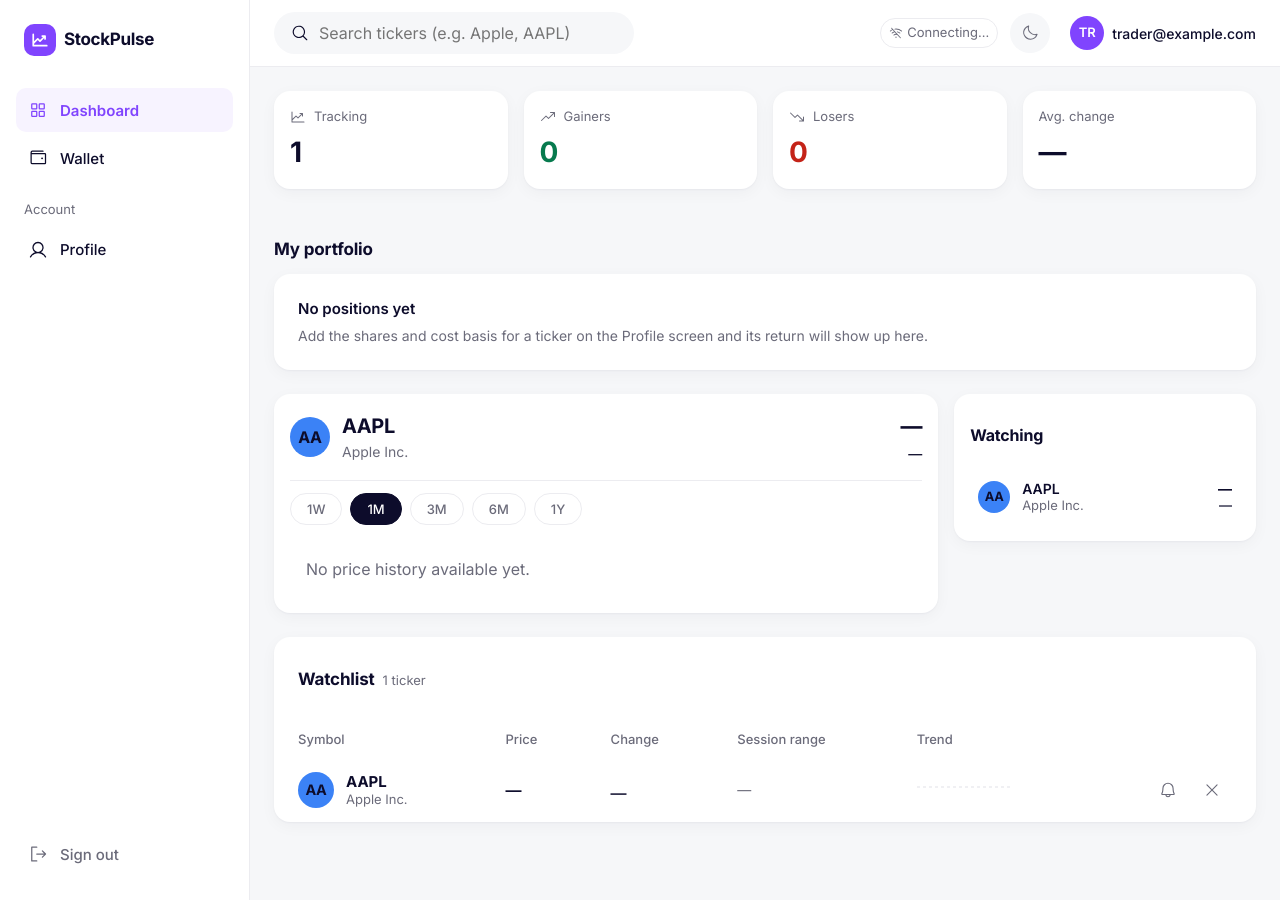
it: App — removing from the watchlist › removes the item from the table (optimistically) when removeFromWatchlist succeeds
Expected: the 1st text "AAPL" is shown, top-left (342, 414), bottom-right (395, 438)
Click the button named "Remove AAPL from watchlist": (1212, 790) top-left (1192, 770), bottom-right (1232, 810)
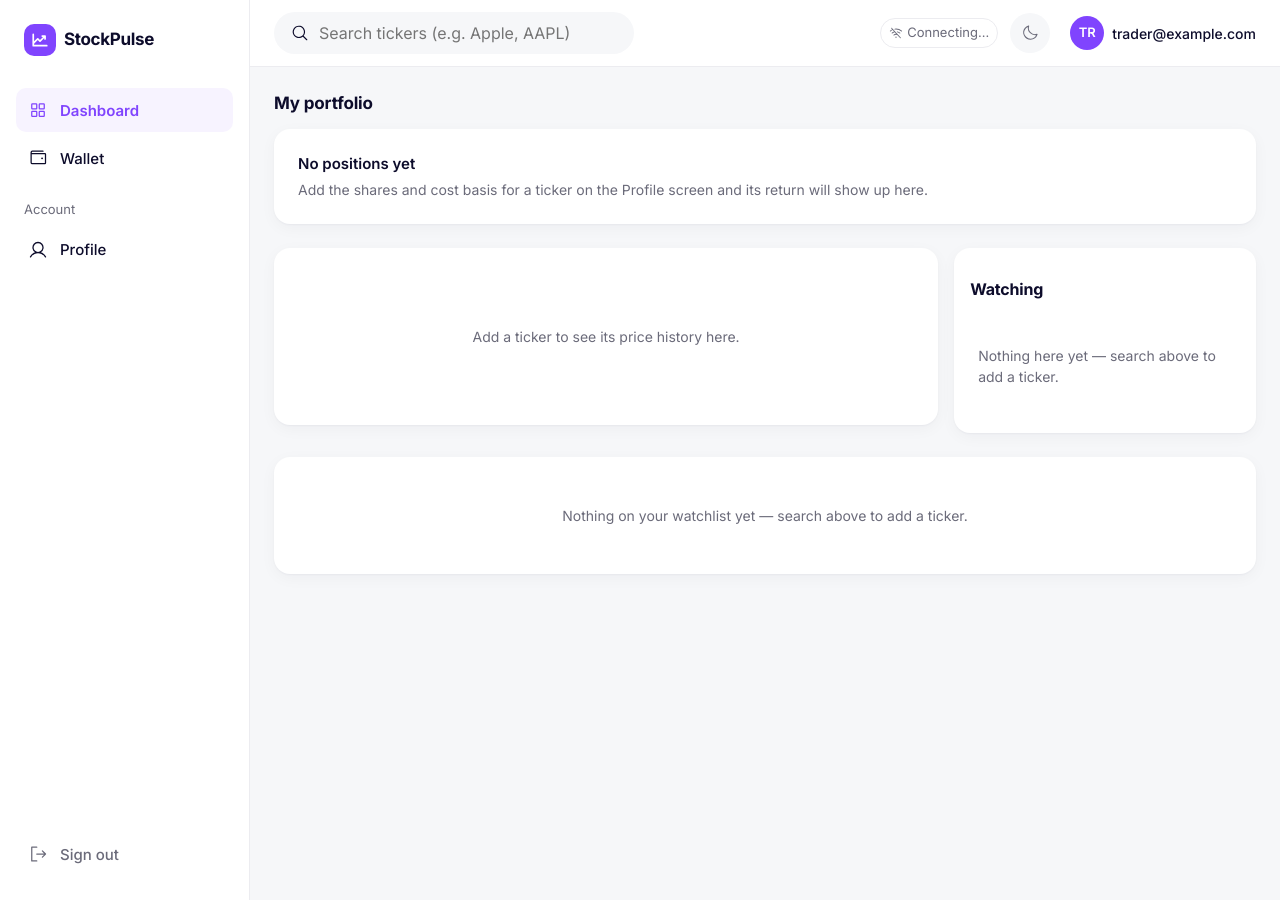
Expected: the text "Nothing on your watchlist yet" is shown, top-left (562, 506), bottom-right (968, 524)
